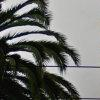Palm tree: (5, 0, 68, 92)
